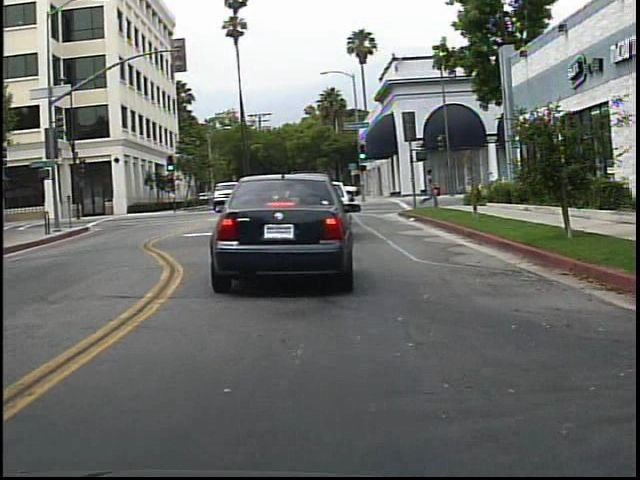person: (419, 166, 442, 214)
